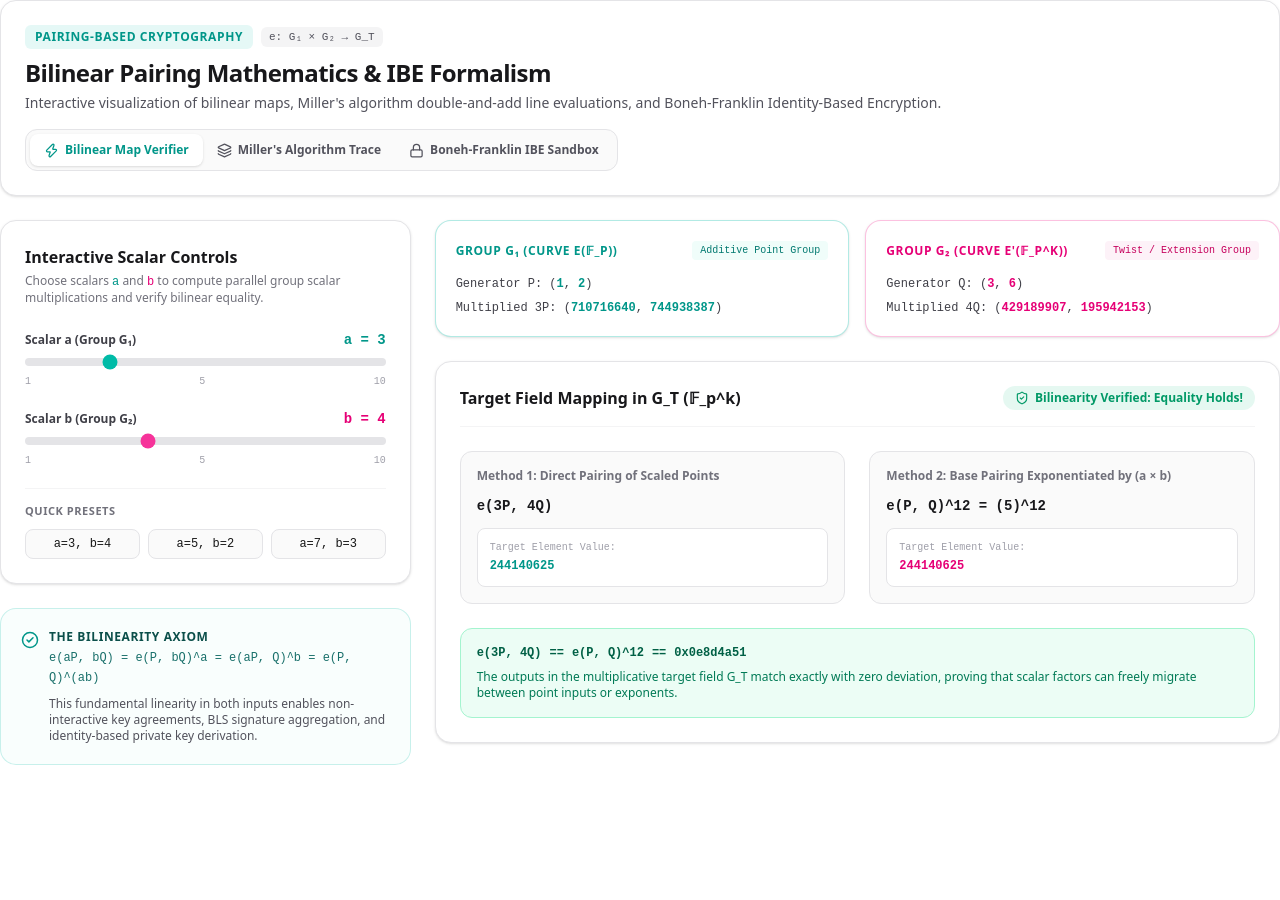
Scenario: PairingVisualizer UI Component (#1043) › updates scalar multipliers when preset buttons are clicked
This screenshot has width=1280, height=900.
Click the button "a=5, b=2": (205, 544) [148,529,263,559]
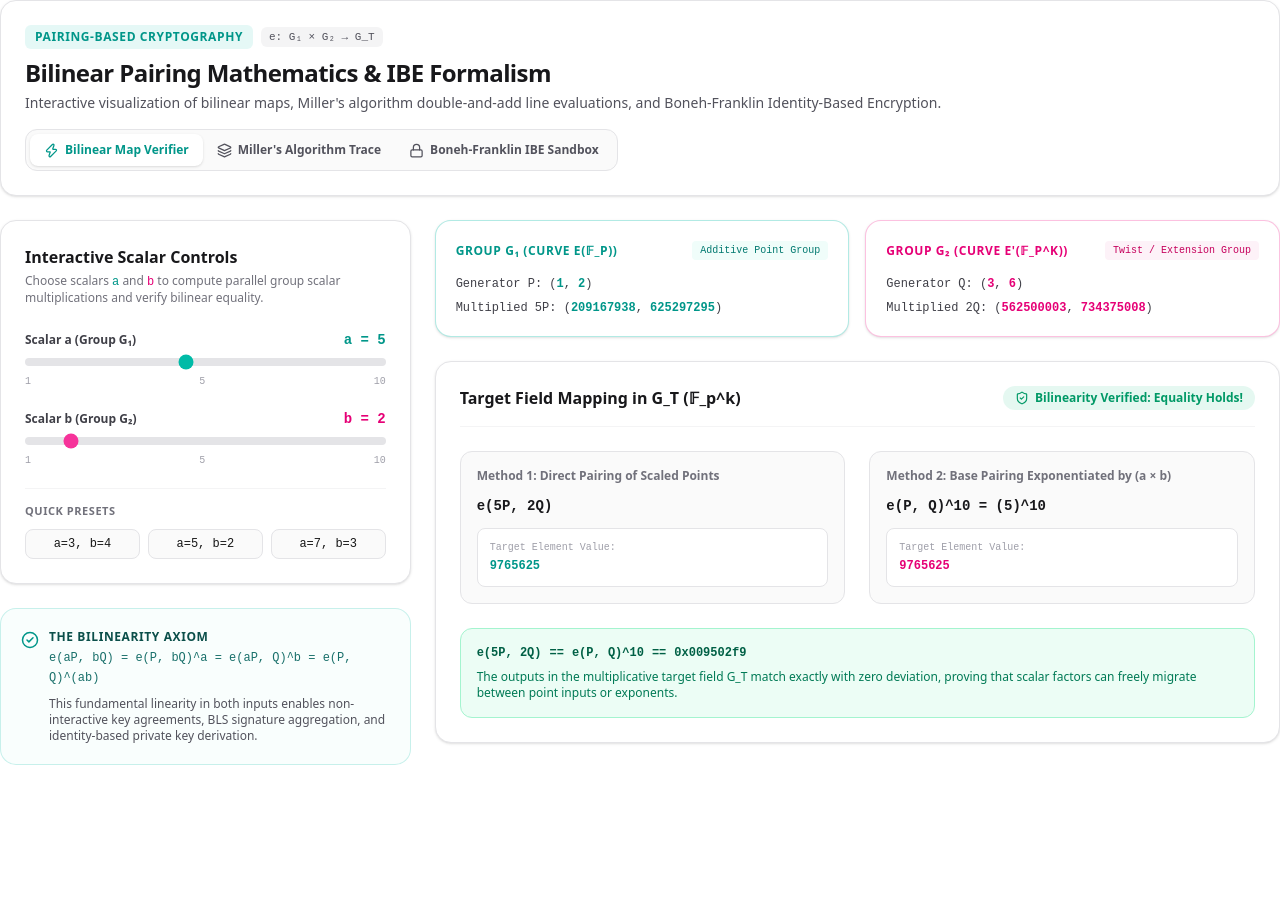
Now the text "a = 5" is shown, box [344,330,386,350]
Now the text "b = 2" is shown, box [344,409,386,429]
